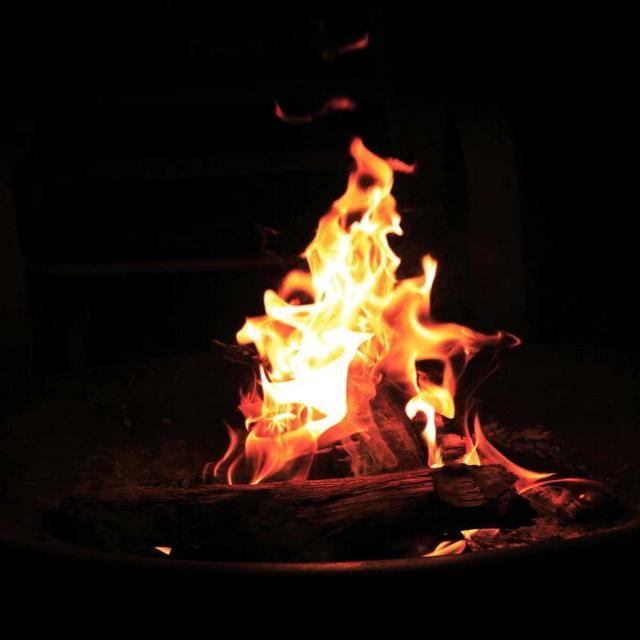Fire: (234, 145, 558, 510)
